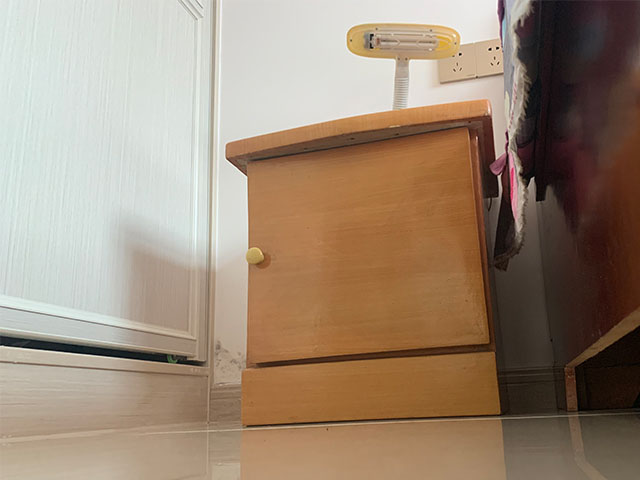cabinet: (222, 97, 507, 430), (1, 1, 223, 424)
